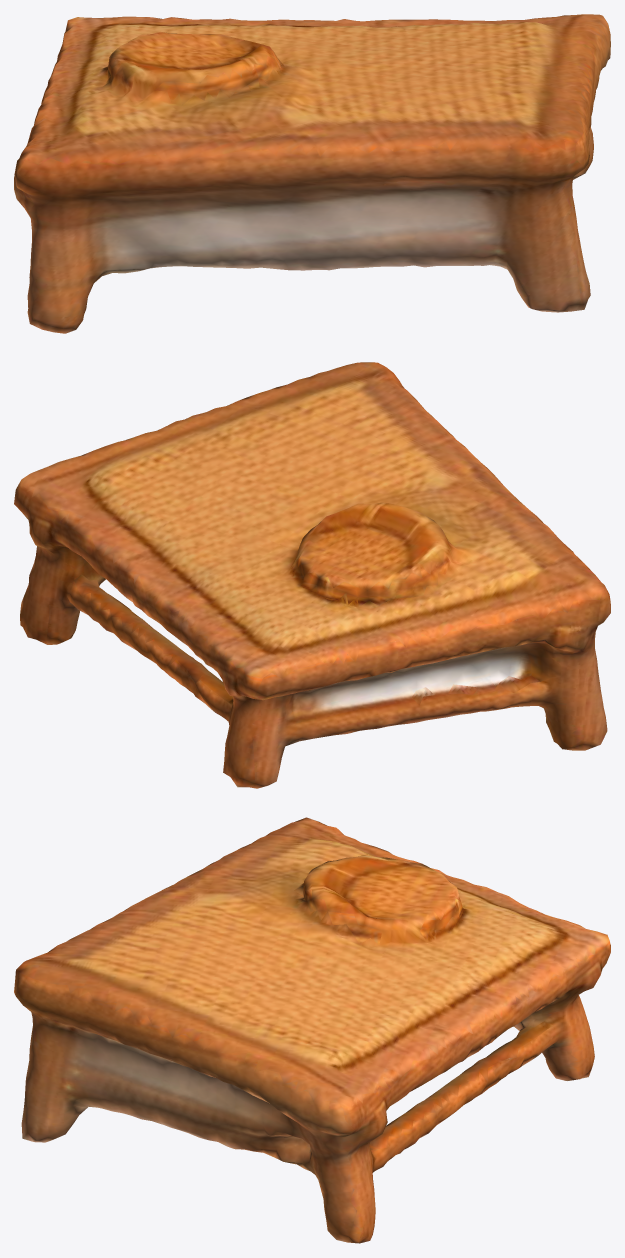
Rendered from pyeongsang.glb.
3 views of the same model, one above another, from view 1: azimuth 30°, elevation 25°; view 2: azimuth 150°, elevation 25°; view 3: azimuth 270°, elevation 25° (orthographic). The views are drawn at different scales.
Visible parts, largest first — view 1: world; view 2: world; view 3: world.
Part boxes in pixels (bbox=[...]): world: bbox=[14, 14, 610, 333]; world: bbox=[14, 362, 610, 788]; world: bbox=[14, 817, 610, 1243].
Size of the model in its own units: 1.8 by 0.6 by 1.62.
1 material, 1 textured.
